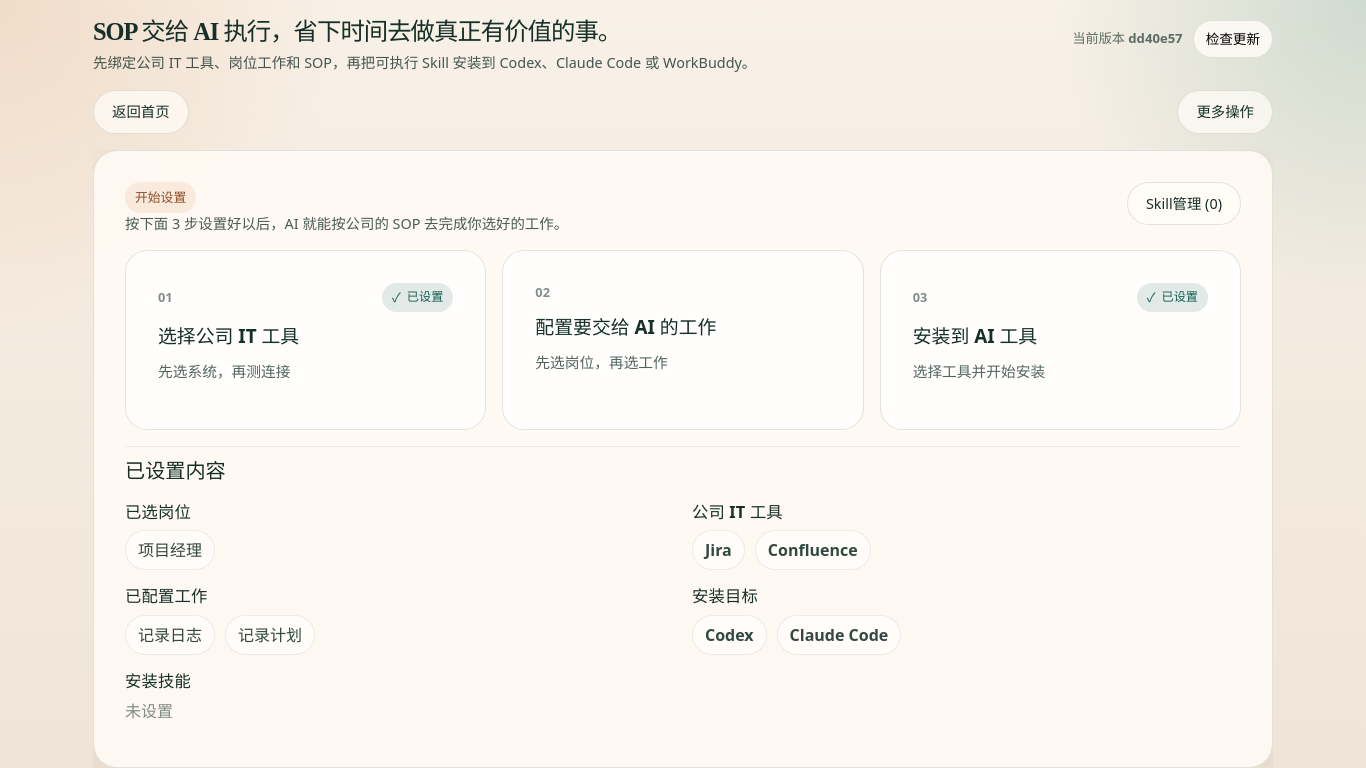
onboarding shell smoke coverage › keeps installed-skill navigation out of the more menu
Click the button "更多操作". click: click(1225, 112)
box: [1177,90,1273,134]
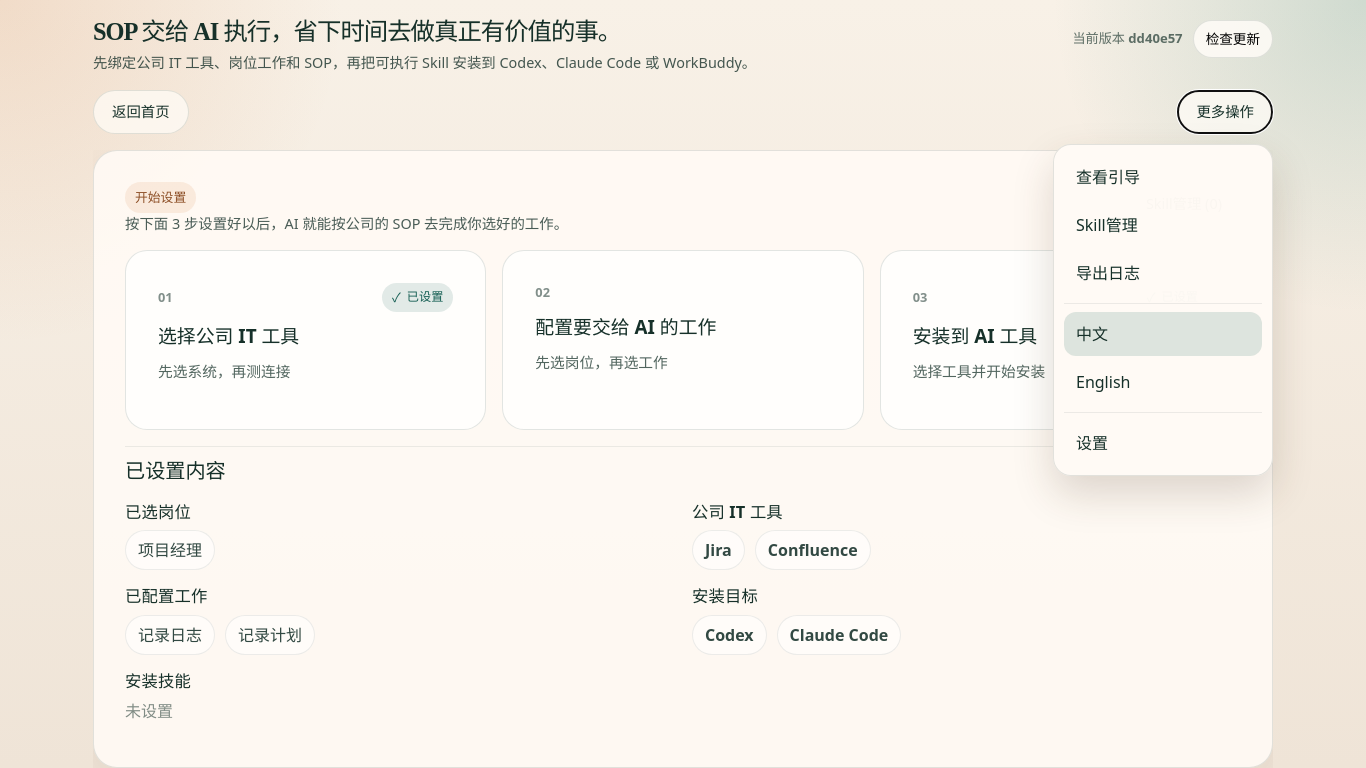
expect the element with class "header-menu__panel" is shown: met, box [1053,144,1273,476]
